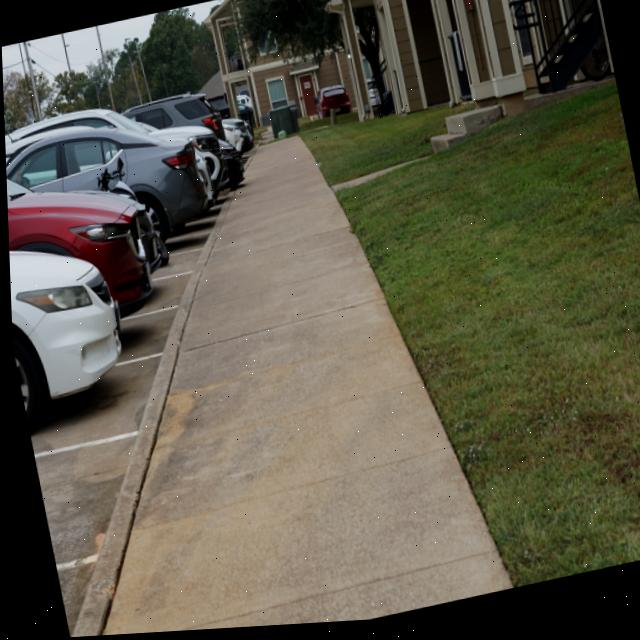Automobile: (5, 122, 206, 242), (5, 178, 149, 306), (7, 251, 118, 399), (4, 110, 157, 155), (124, 95, 225, 143), (173, 131, 224, 200), (13, 359, 34, 419), (315, 89, 351, 122), (219, 146, 243, 188), (221, 122, 243, 155), (188, 131, 192, 137)
Obstacle: (268, 109, 298, 141)
Road: (25, 253, 198, 638)
Sidewalk: (100, 141, 508, 636)
